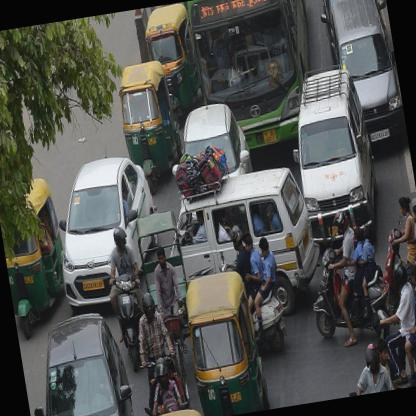bus: (187, 0, 332, 164)
car: (157, 161, 327, 329), (44, 154, 166, 314), (284, 64, 383, 248), (327, 0, 409, 155), (18, 310, 137, 415), (176, 99, 255, 187), (317, 0, 385, 58)
motorcycle: (298, 203, 395, 344), (218, 217, 292, 361), (102, 224, 154, 371), (126, 288, 183, 415), (360, 261, 415, 392)
